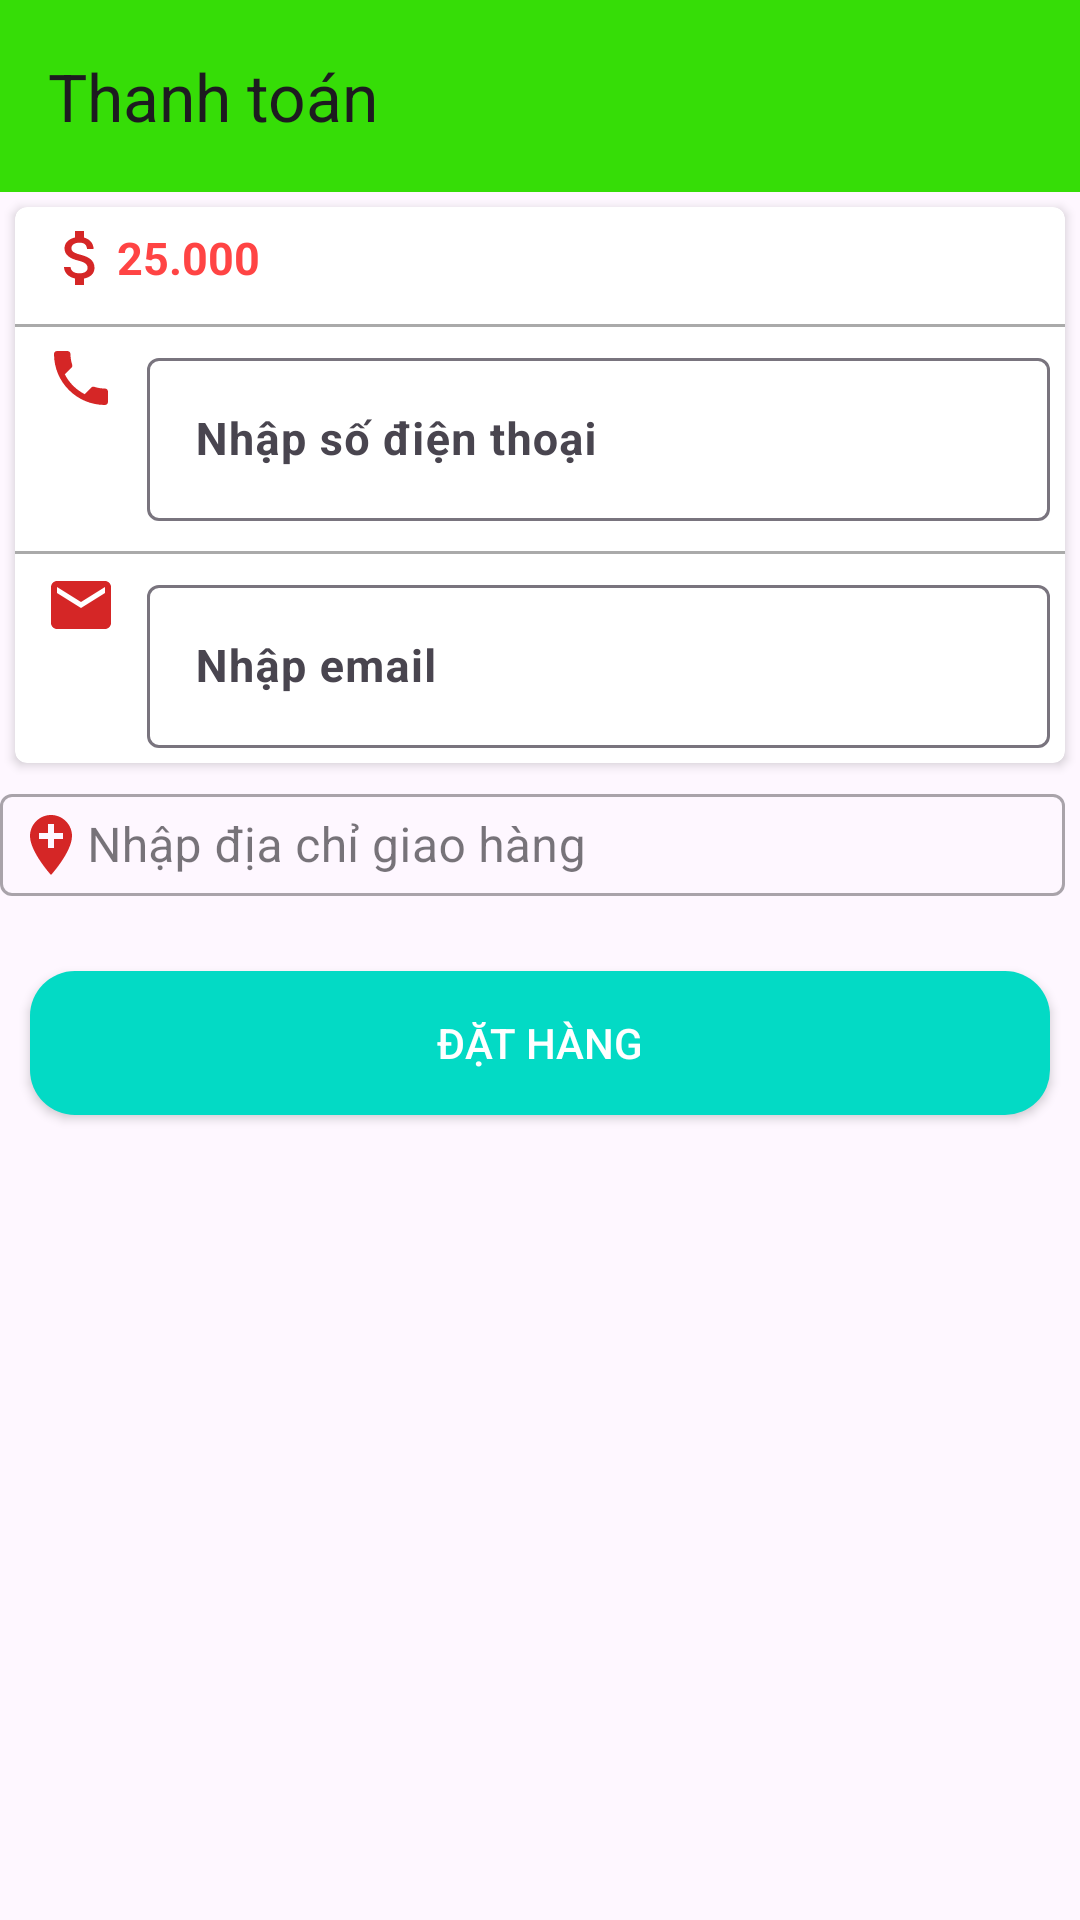

Where to tap for icons on this 1080*1920 app screen, as (x=x, y=y):
attach money: (x=79, y=258)
local phone: (x=81, y=378)
